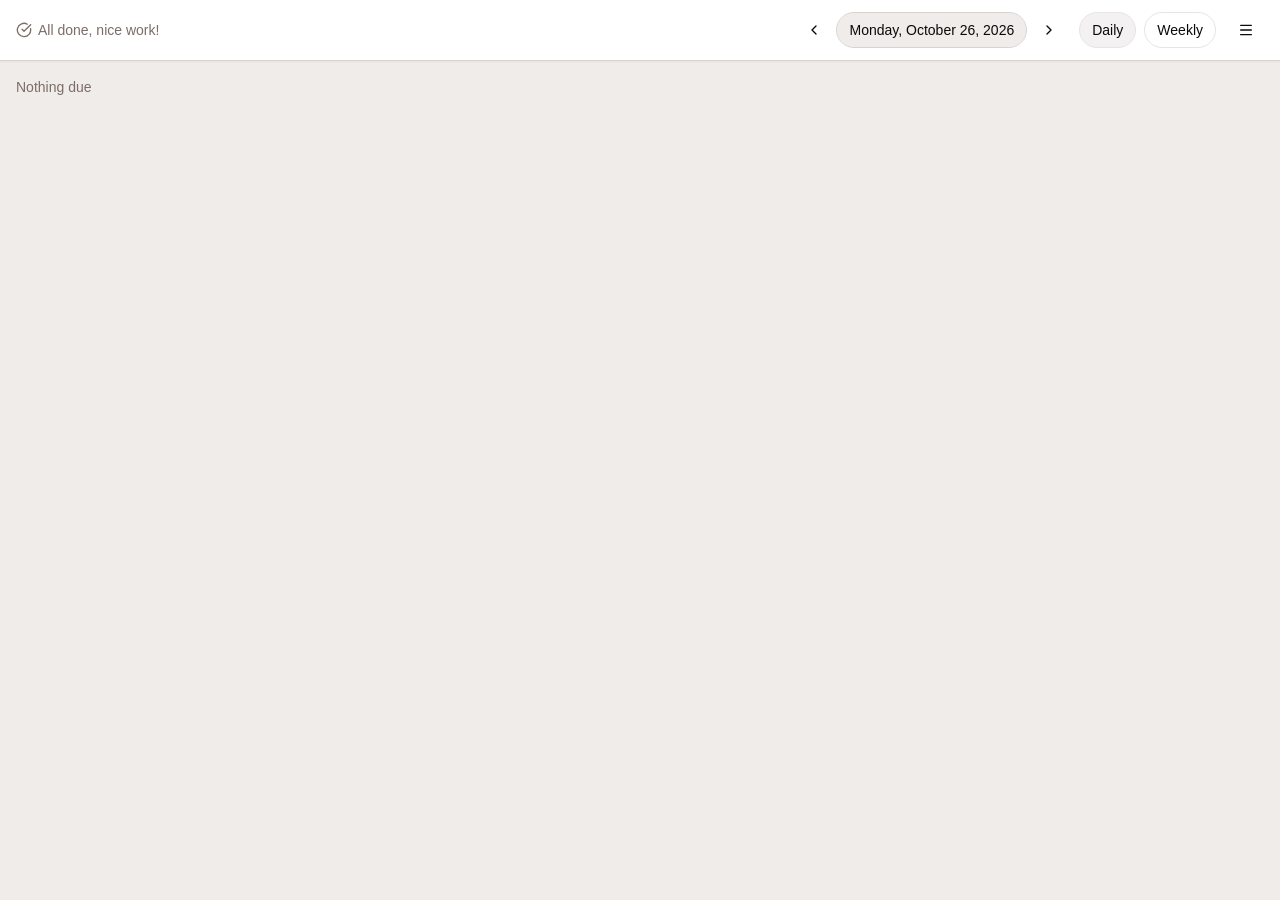
Test: the top bar › labels them for the week in weekly view
Click the radio button labelled "Weekly": (1180, 30) x1=1144 y1=12 x2=1216 y2=48
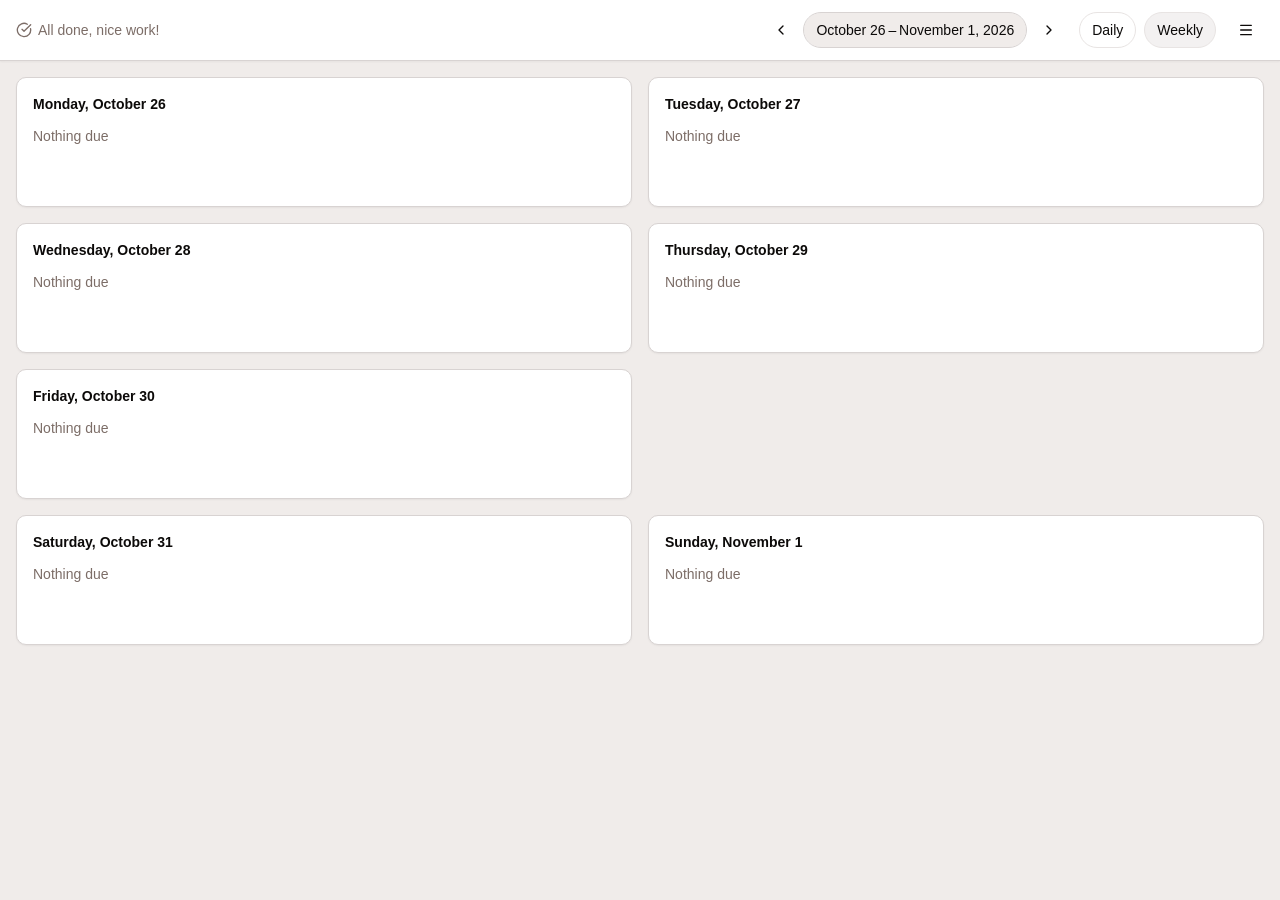
expect the button named "Previous week" is shown: met, box x1=763 y1=12 x2=799 y2=48
